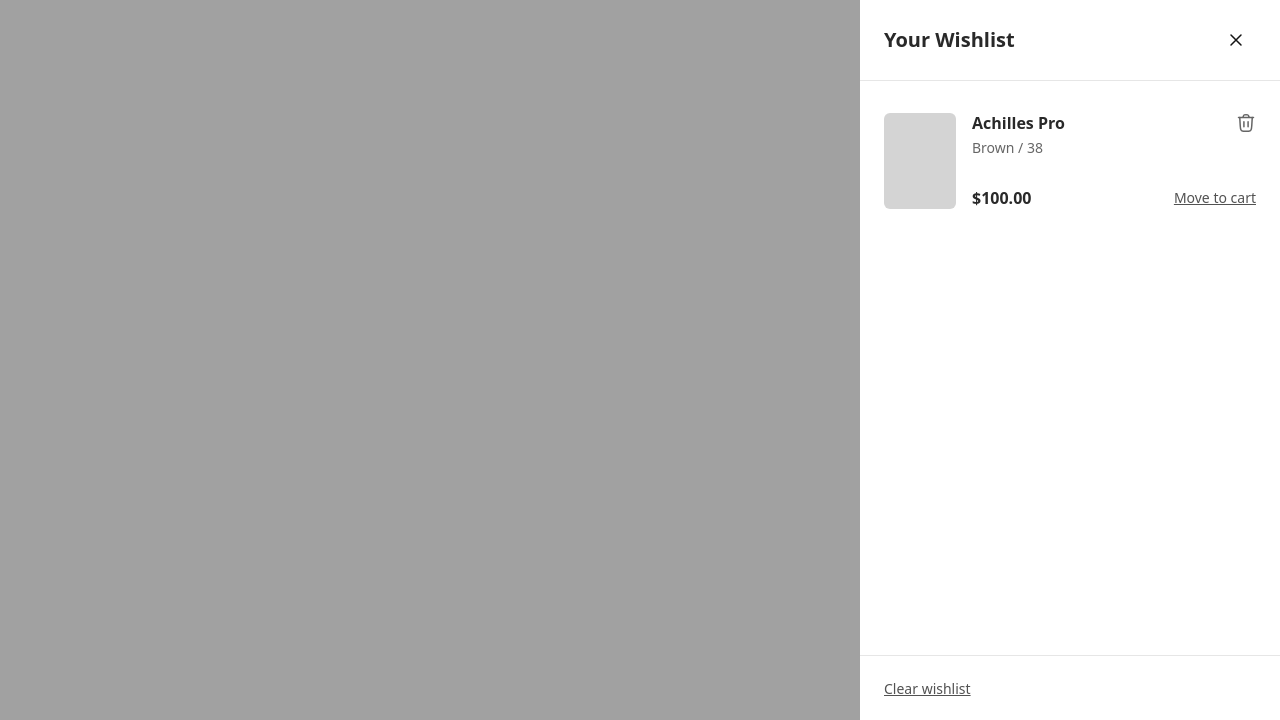
WishlistButton and WishlistDrawer › removes an item
Step 1. Click the button named "Remove Achilles Pro from wishlist" → point(1246, 123), box [1236,113,1256,133]
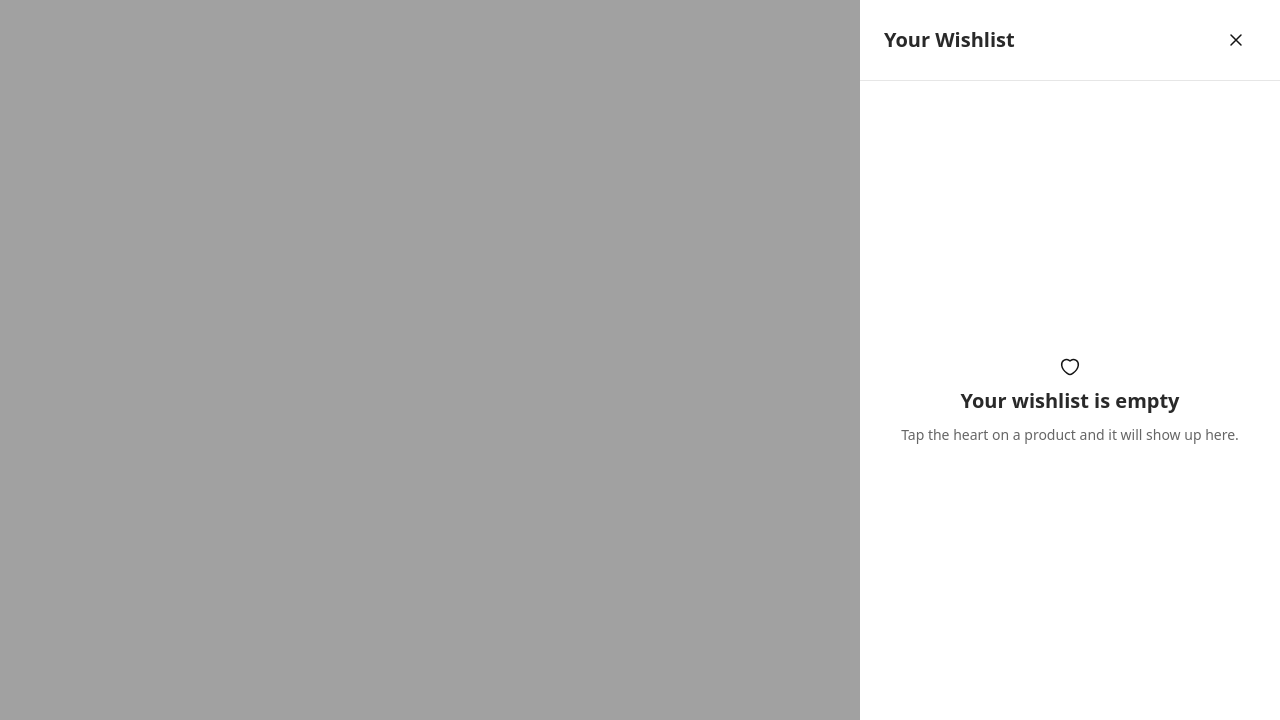
Expected: the text "Your wishlist is empty" is shown, [960,388,1180,412]
